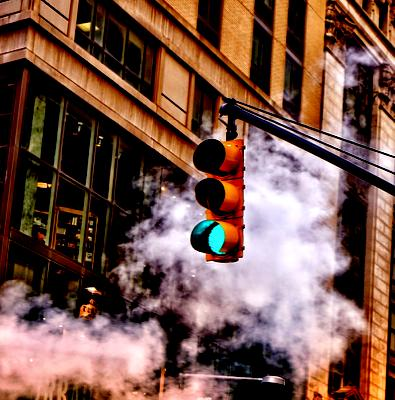International Road Signal Light: (189, 133, 247, 264)
